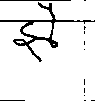ai_matra: (38, 1, 59, 20)
